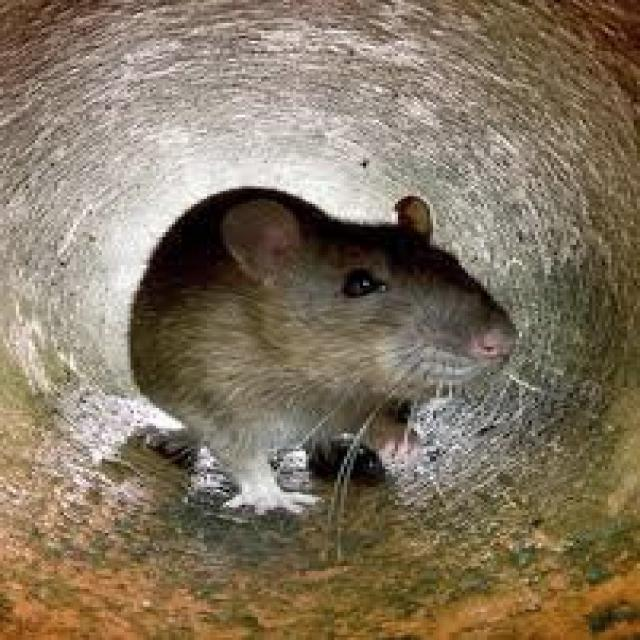rat: (134, 189, 516, 510)
